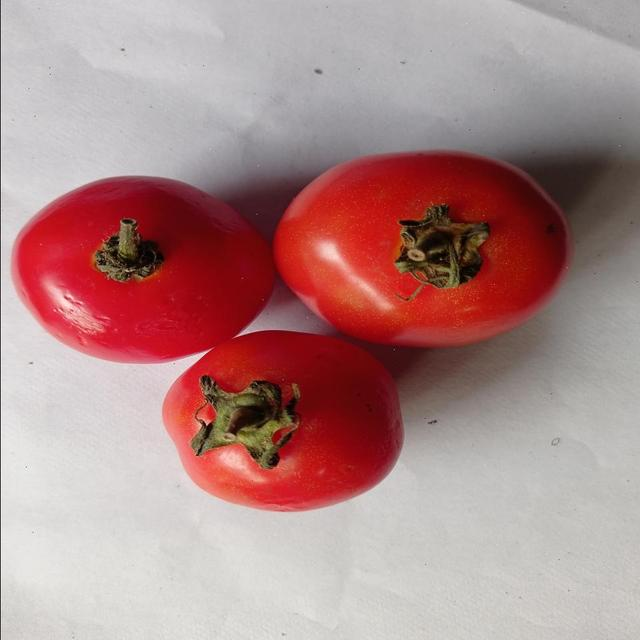Healthy Fruit: (94, 126, 282, 280)
